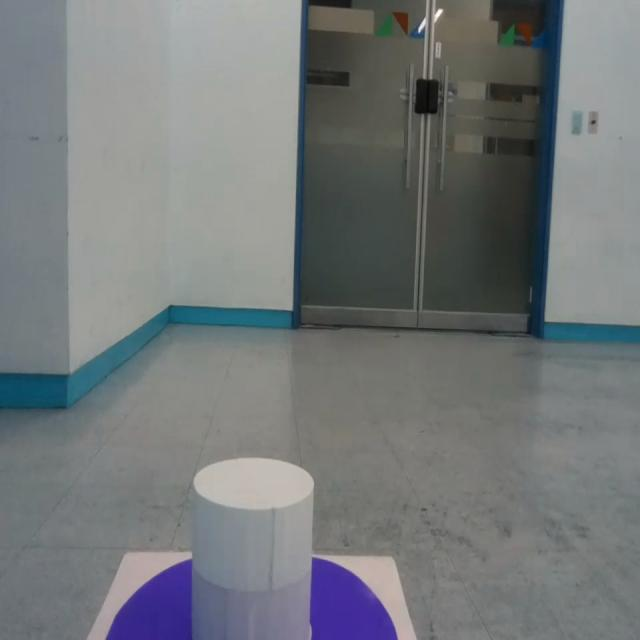cylinder: (190, 458, 316, 638)
